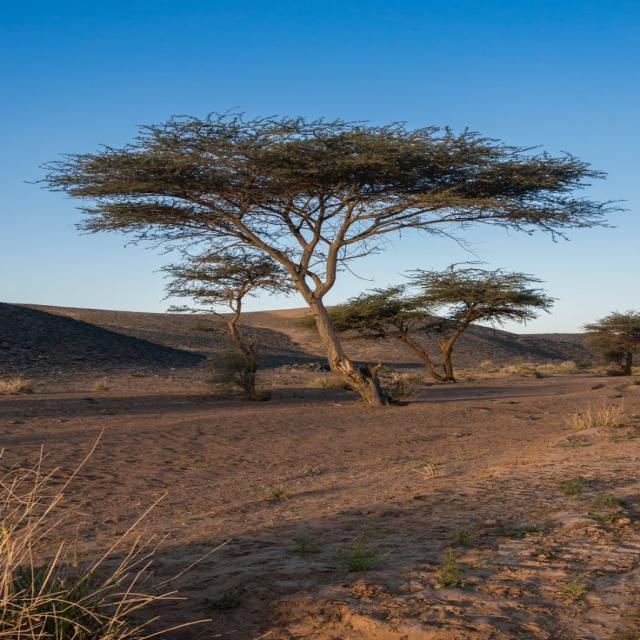Acacia: (68, 126, 560, 400)
